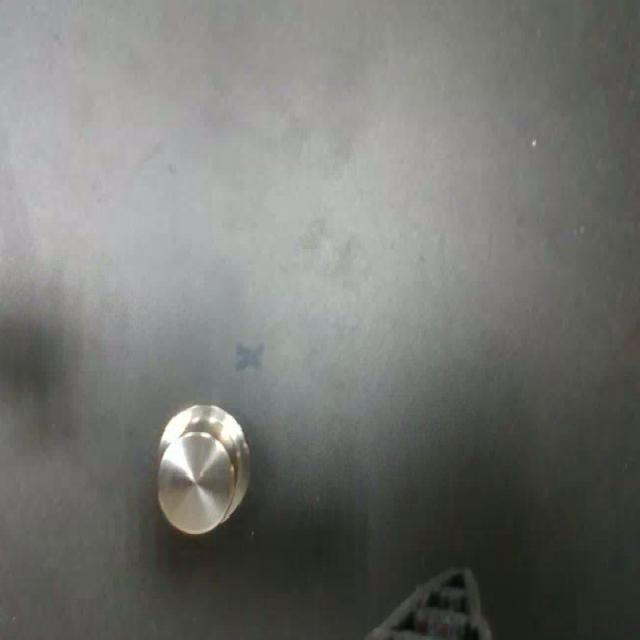sensor: (155, 402, 251, 534)
